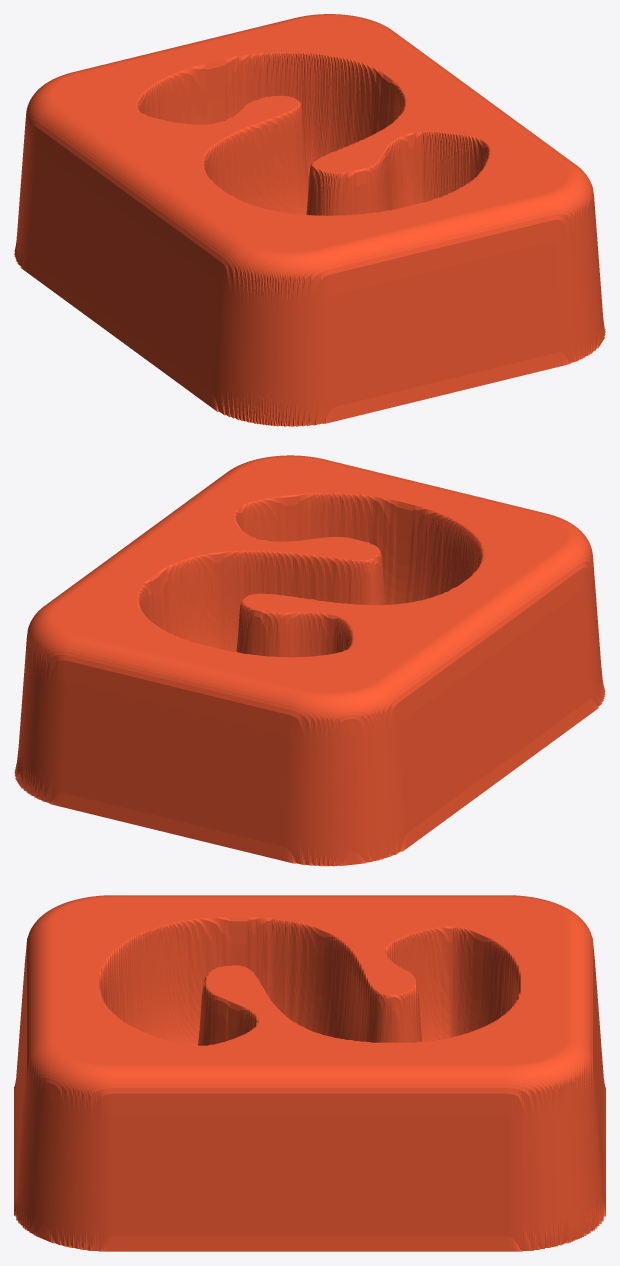
Rendered from mold.glb.
The picture shows the model from 3 angles, top to bottom: view 1: azimuth 30°, elevation 25°; view 2: azimuth 150°, elevation 25°; view 3: azimuth 270°, elevation 25°; orthographic projection. The views are drawn at different scales.
Visible parts, largest first — view 1: geometry_0; view 2: geometry_0; view 3: geometry_0.
Boxes of the visible parts, <box> form: geometry_0: <box>14,14,605,426</box>; geometry_0: <box>14,455,605,866</box>; geometry_0: <box>14,895,605,1251</box>.
Size of the model in its own units: 0.0434 by 0.0172 by 0.0542.
